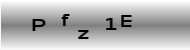1: (103, 17, 117, 31)
E: (120, 14, 134, 29)
P: (32, 17, 46, 32)
f: (59, 12, 70, 26)
z: (76, 28, 91, 41)
